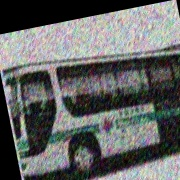bus: (1, 31, 180, 180)
